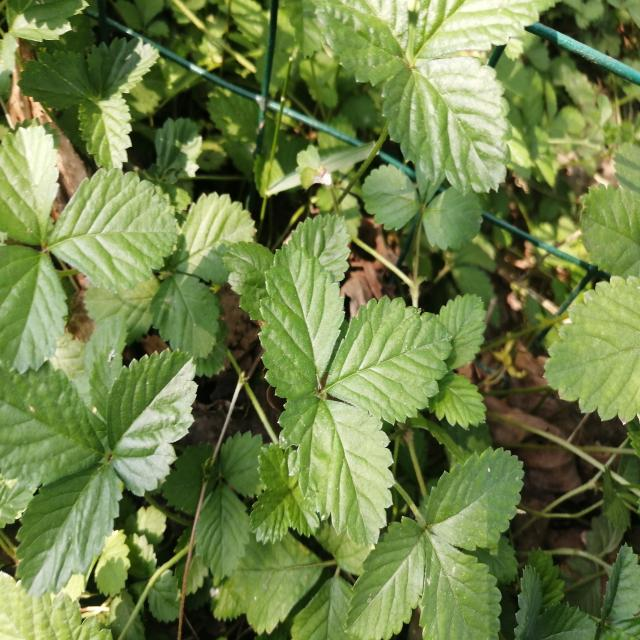Mock_strawberry: (258, 230, 447, 536)
